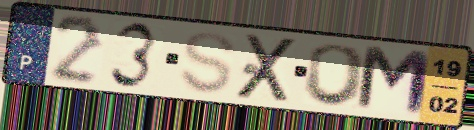2: (49, 12, 111, 87)
3: (105, 21, 167, 91)
M: (353, 42, 435, 120)
O: (299, 42, 371, 109)
S: (176, 29, 238, 96)
X: (232, 32, 302, 104)
